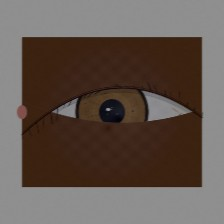pterygium_lesion: (23, 95, 65, 129)
